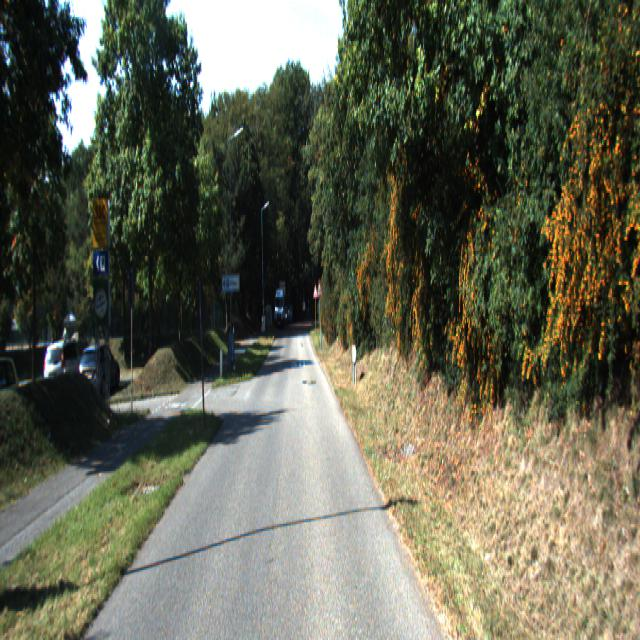Car: (43, 338, 91, 404), (77, 340, 121, 402)
